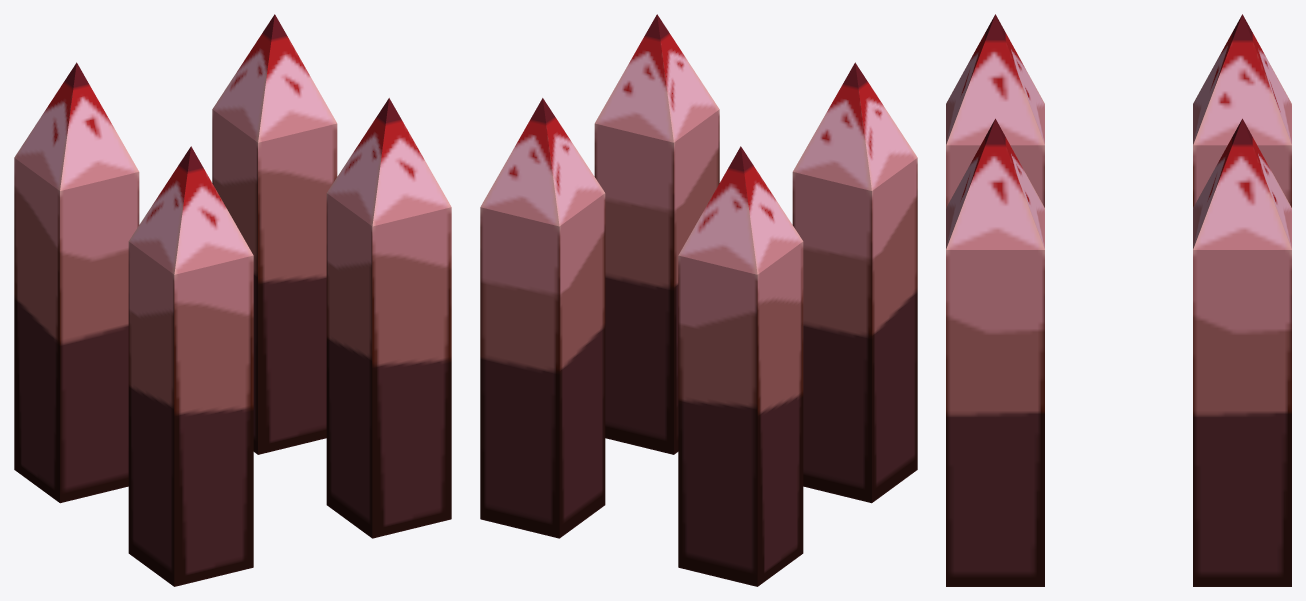
The model's file is Trap_001.fbx.
3 views of the same model, side by side, from view 1: azimuth 30°, elevation 25°; view 2: azimuth 150°, elevation 25°; view 3: azimuth 270°, elevation 25° (orthographic). The views are drawn at different scales.
Parts seen in each view (by area): view 1: trap_spike_01, trap_spike_04, trap_spike_03, trap_spike_02; view 2: trap_spike_02, trap_spike_03, trap_spike_04, trap_spike_01; view 3: trap_spike_02, trap_spike_01, trap_spike_04, trap_spike_03.
Part boxes in pixels (box(x1,y1,x2,y2)): trap_spike_01: box(326, 98, 451, 538); trap_spike_04: box(128, 146, 253, 586); trap_spike_03: box(14, 62, 139, 503); trap_spike_02: box(212, 14, 337, 454); trap_spike_02: box(480, 98, 605, 538); trap_spike_03: box(678, 146, 803, 586); trap_spike_04: box(792, 62, 917, 503); trap_spike_01: box(594, 14, 719, 454); trap_spike_02: box(1193, 118, 1291, 586); trap_spike_01: box(946, 118, 1044, 586); trap_spike_04: box(946, 14, 1044, 207); trap_spike_03: box(1193, 14, 1291, 207).
Size of the model in its own units: 1.4 by 2 by 1.4.
1 material, 1 textured.
